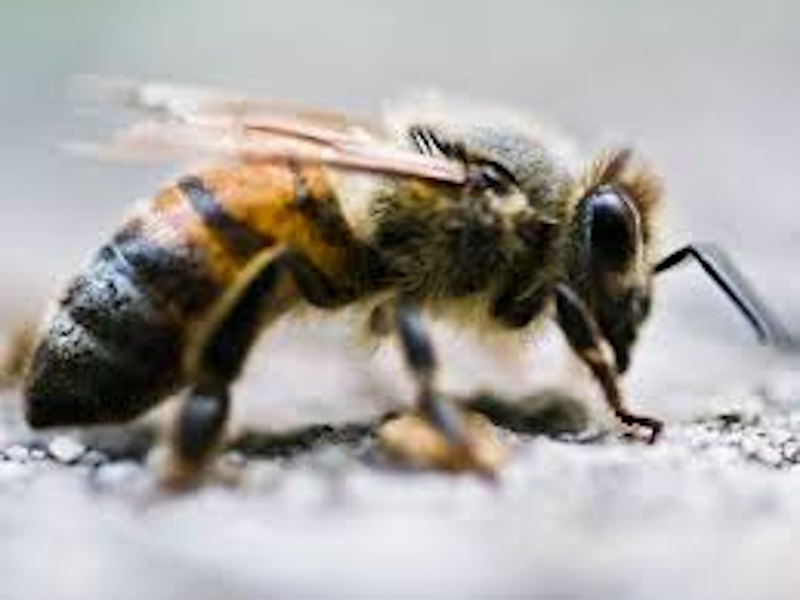abeja: (1, 58, 751, 499)
